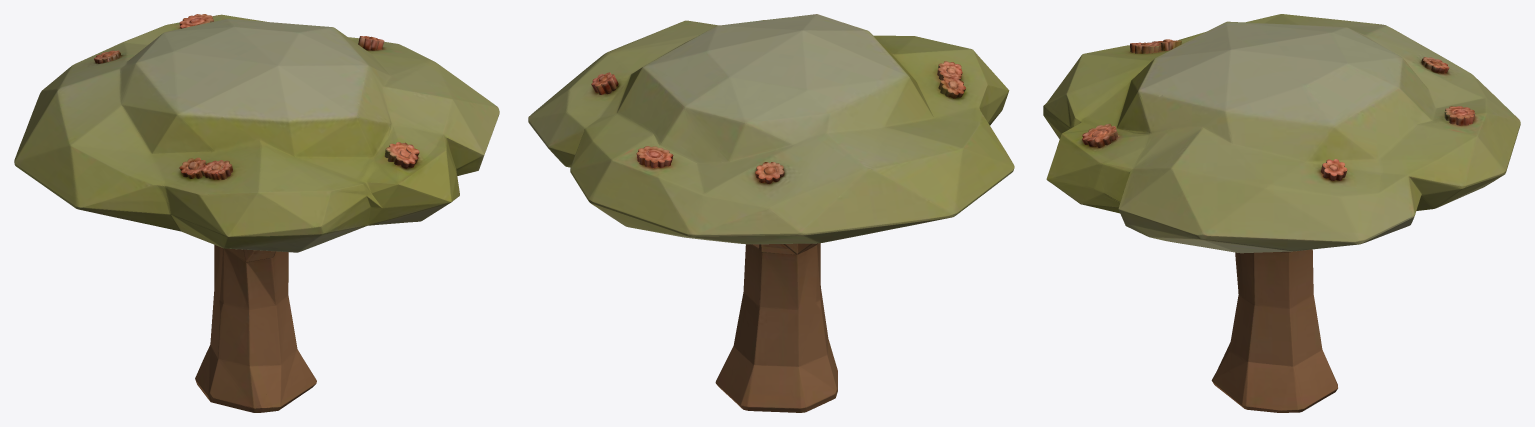
The model's file is flamboyant.glb.
3 views of the same model, side by side, from view 1: azimuth 30°, elevation 25°; view 2: azimuth 150°, elevation 25°; view 3: azimuth 270°, elevation 25° (orthographic).
Visible parts, largest first — view 1: node_0; view 2: node_0; view 3: node_0.
Boxes of the visible parts, bbox=[...] form: node_0: bbox=[14, 14, 499, 412]; node_0: bbox=[528, 14, 1014, 412]; node_0: bbox=[1043, 14, 1520, 412].
Size of the model in its own units: 1.07 by 0.842 by 1.06.
1 material, 1 textured.
